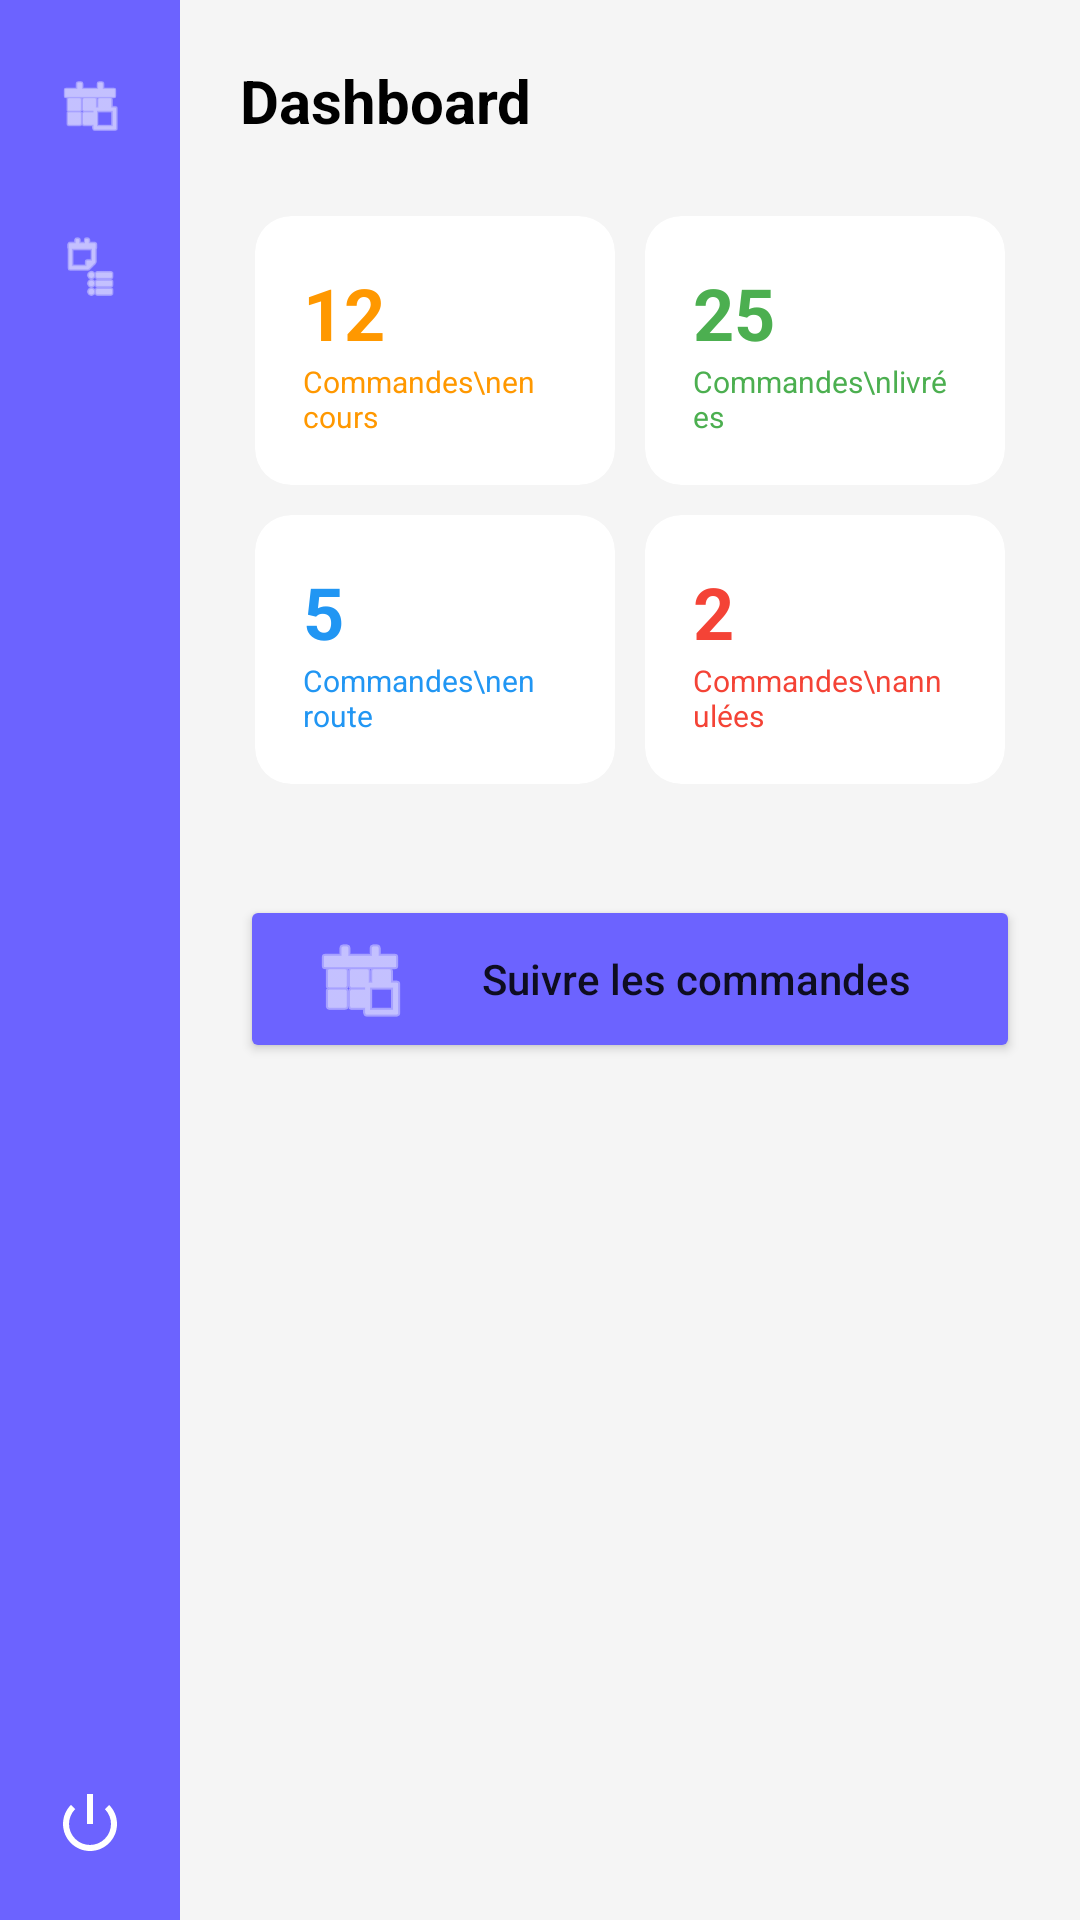

Named icons in this screenshot (1080*1920) and their bounding boxes, (x1, y1, x2, y2):
lock power off: (63, 1794, 117, 1851)
